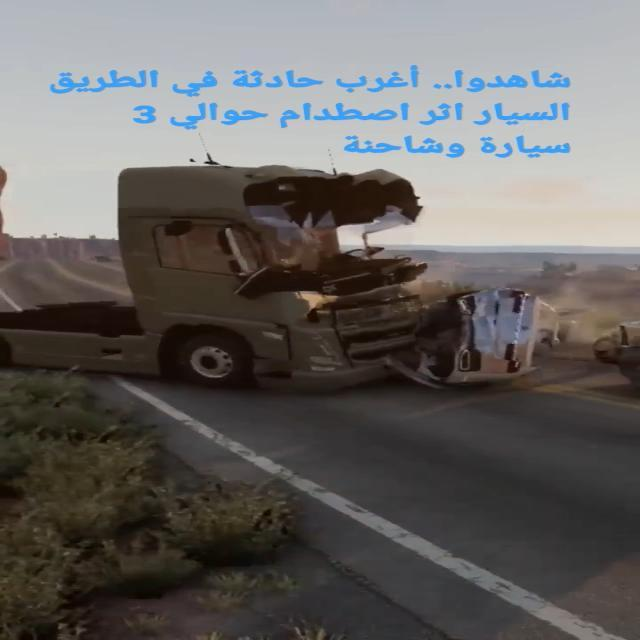accident: (83, 162, 572, 401)
